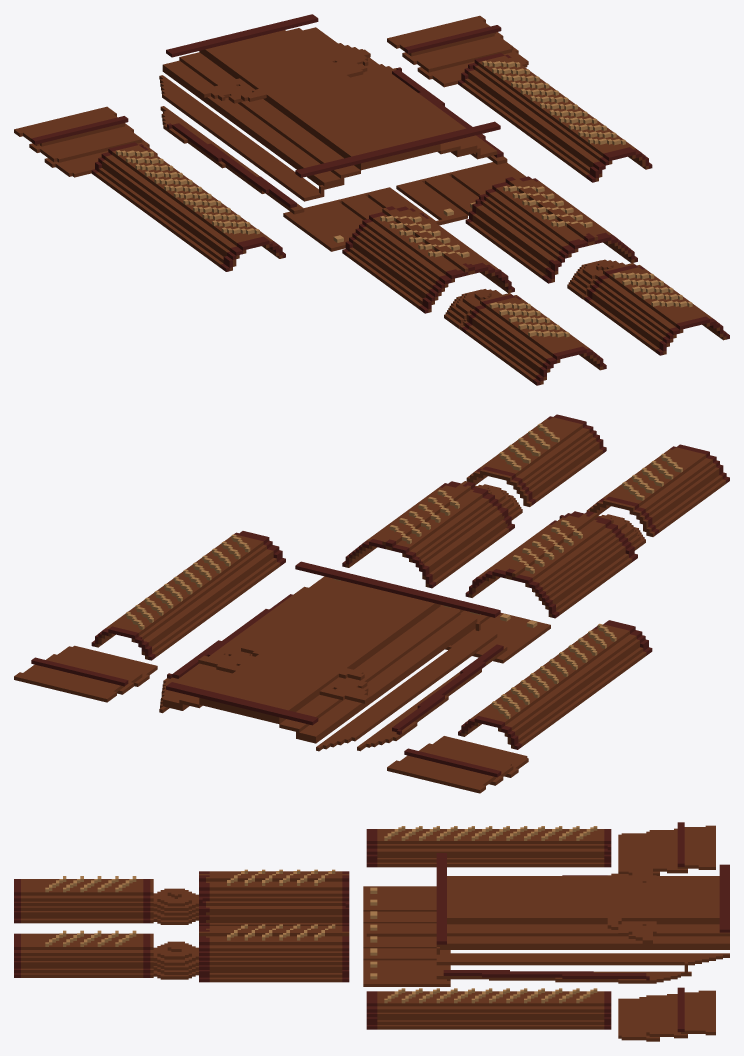
The model's file is armor_blarmor.glb.
The picture shows the model from 3 angles, top to bottom: view 1: azimuth 30°, elevation 25°; view 2: azimuth 150°, elevation 25°; view 3: azimuth 270°, elevation 25°; orthographic projection. The views are drawn at different scales.
Parts seen in each view (by area): view 1: armor_blarmor:compound; view 2: armor_blarmor:compound; view 3: armor_blarmor:compound.
Boxes of the visible parts, <box> form: armor_blarmor:compound: <box>14,14,729,385</box>; armor_blarmor:compound: <box>14,414,729,793</box>; armor_blarmor:compound: <box>14,822,729,1041</box>.
Bounding box in the file's own units: 0.84 × 0.078 × 1.23.
